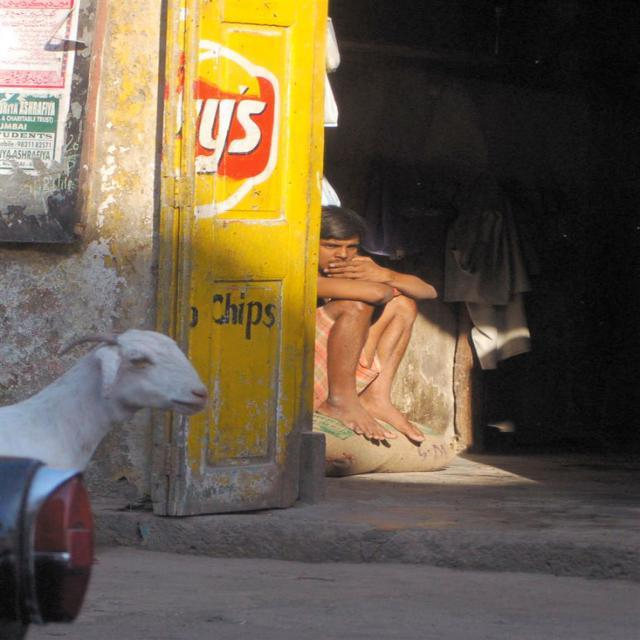Goat: (0, 327, 209, 473)
